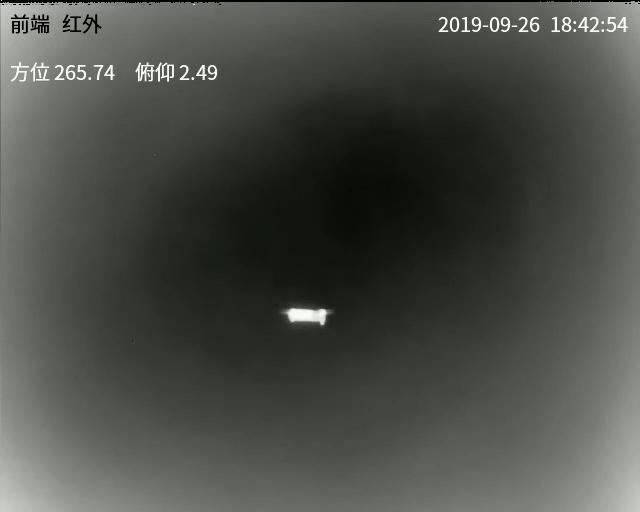uav: (277, 301, 335, 327)
